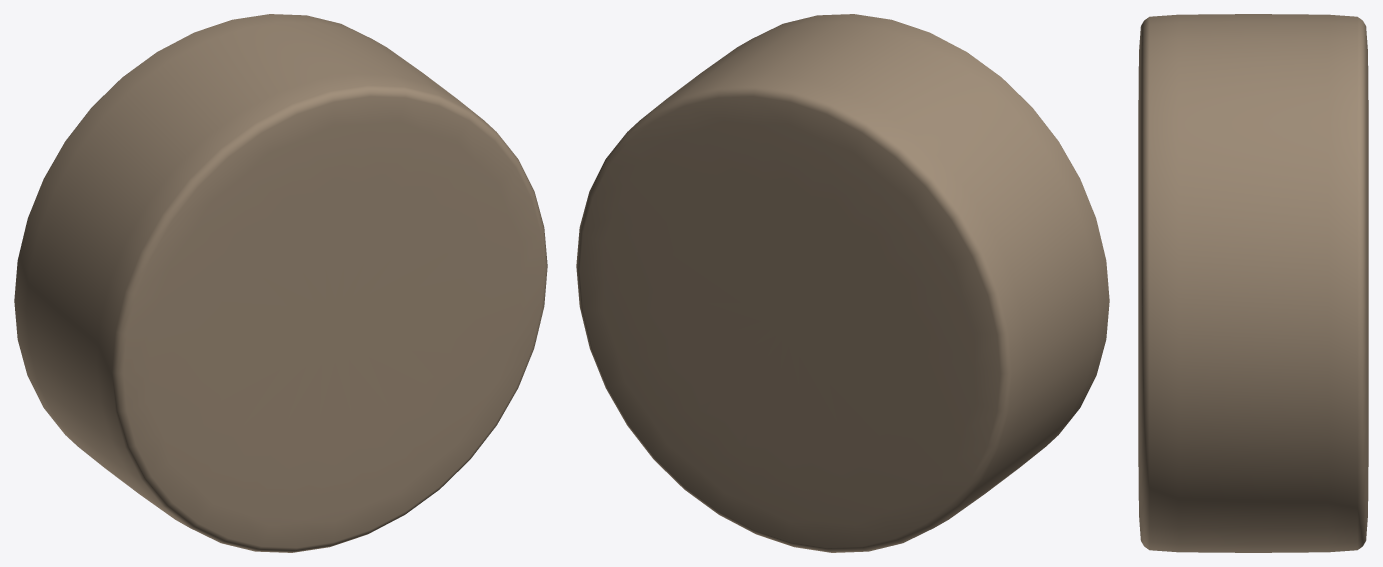
Rendered from ele_button_up.fbx.
The picture shows the model from 3 angles, left to right: view 1: azimuth 30°, elevation 25°; view 2: azimuth 150°, elevation 25°; view 3: azimuth 270°, elevation 25°; orthographic projection. The views are drawn at different scales.
Visible parts, largest first — view 1: ele_button_up; view 2: ele_button_up; view 3: ele_button_up.
Part boxes in pixels (<box>): ele_button_up: <box>14,14,547,552</box>; ele_button_up: <box>576,14,1109,552</box>; ele_button_up: <box>1138,14,1368,552</box>.
Size of the model in its own units: 0.0368 by 0.0368 by 0.0157.
